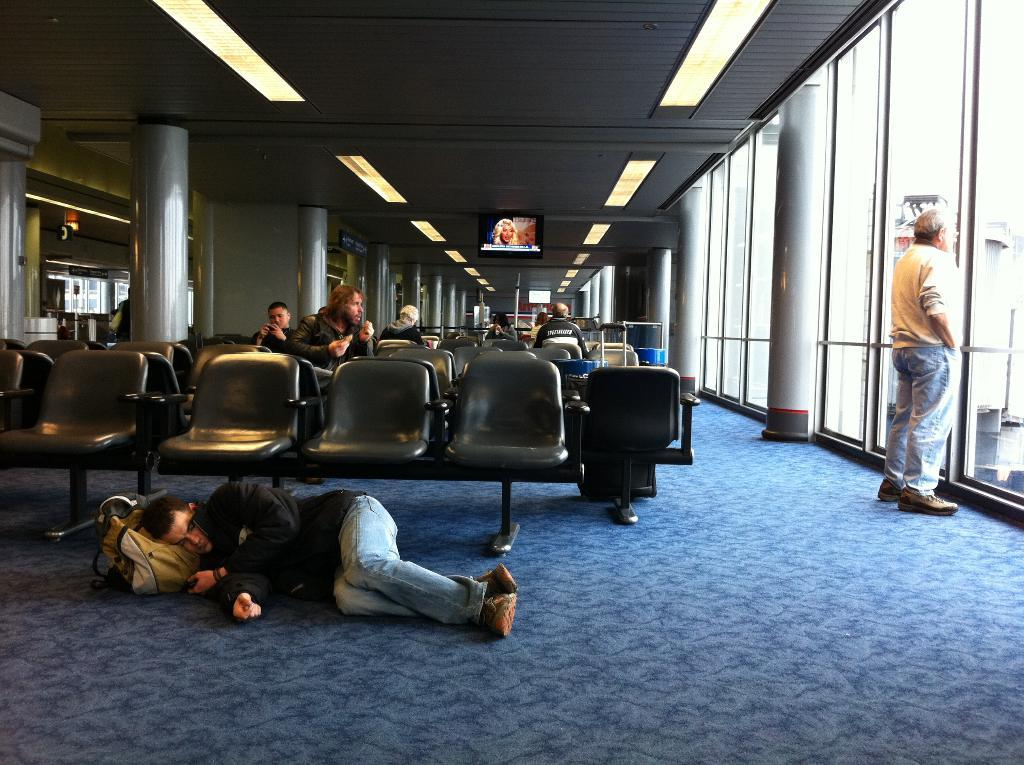Luggage-and-bags: (87, 494, 209, 595)
